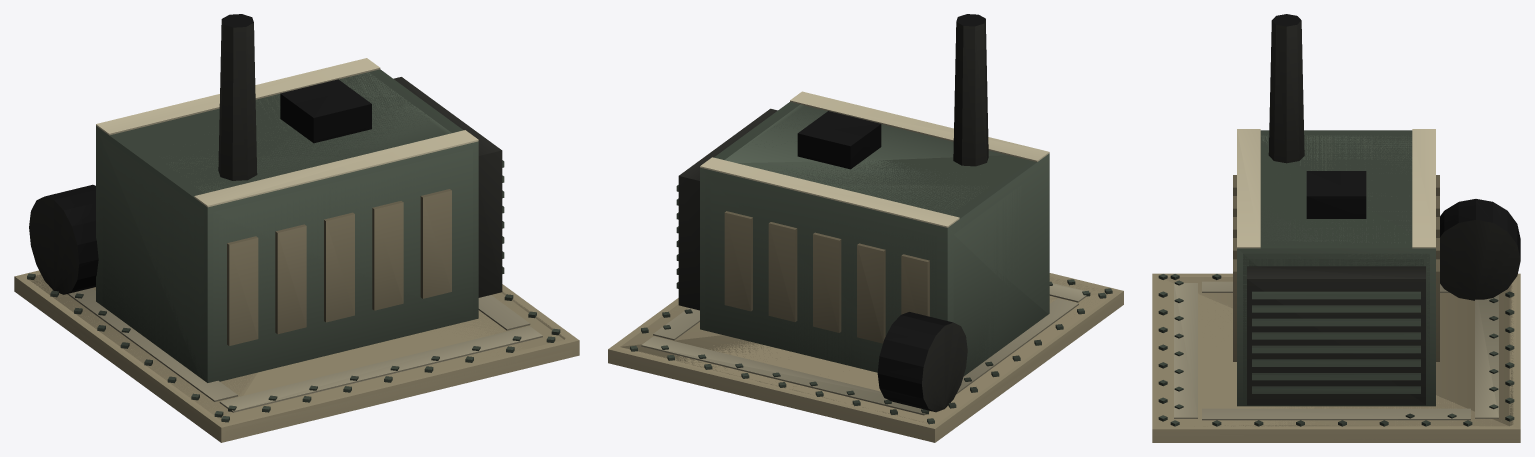
Rendered from neutral_generator_off.glb.
3 renders of one model, left to right at view 1: azimuth 30°, elevation 25°; view 2: azimuth 150°, elevation 25°; view 3: azimuth 270°, elevation 25°, orthographic. The views are drawn at different scales.
Parts seen in each view (by area): view 1: body (×3); view 2: body (×3); view 3: body (×3).
Boxes of the visible parts, x1,y1,x2,y2 form: body (×3): (14, 14, 579, 442); body (×3): (608, 14, 1123, 442); body (×3): (1152, 14, 1520, 442).
Size of the model in its own units: 3.7 by 3.4 by 3.7.
